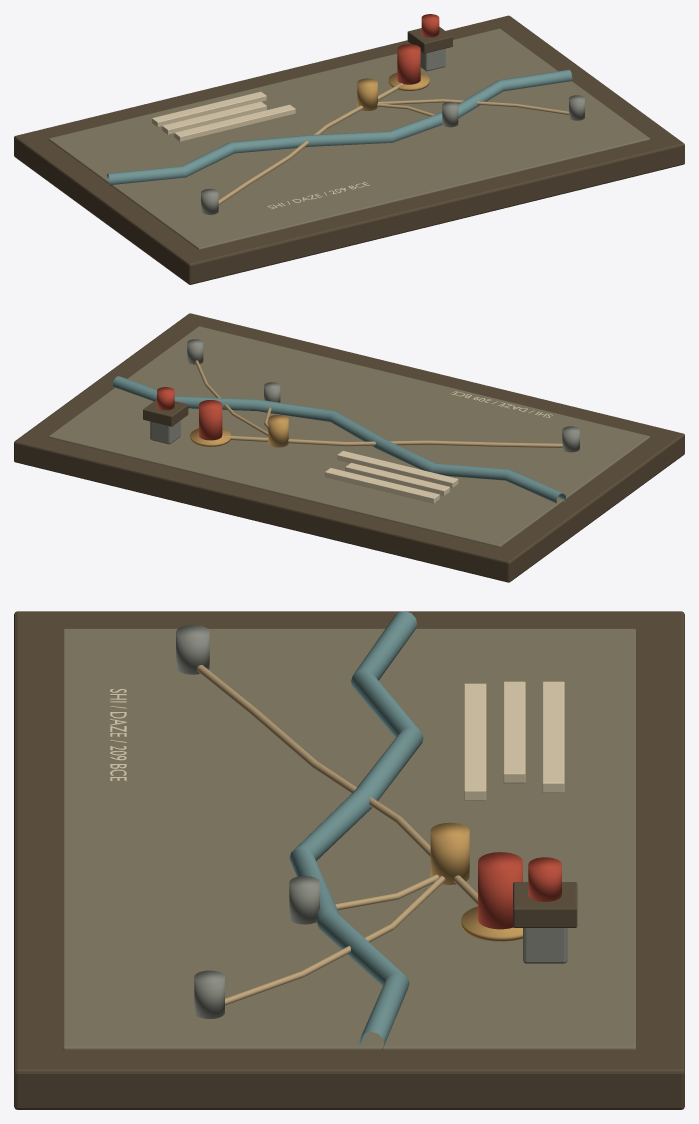
The model's file is shi-daze-wartable-v1.fbx.
The picture shows the model from 3 angles, top to bottom: view 1: azimuth 30°, elevation 25°; view 2: azimuth 150°, elevation 25°; view 3: azimuth 270°, elevation 25°; orthographic projection. The views are drawn at different scales.
Visible parts, largest first — view 1: raised earth map, dark wood campaign table, Huai river, bamboo tally three, bamboo tally one, bamboo tally two, Daze marker, Xianyang to Chen road, beacon tower crown, Chen to Kuaiji road, Chen marker, beacon tower base (+2 smaller); view 2: raised earth map, dark wood campaign table, Huai river, Xianyang to Chen road, bamboo tally three, bamboo tally one, bamboo tally two, Daze marker, beacon tower crown, Chen marker, beacon tower base, Xianyang marker; view 3: raised earth map, dark wood campaign table, Huai river, Daze marker, Xianyang to Chen road, bamboo tally three, bamboo tally one, beacon tower crown, bamboo tally two, Chen marker, Chen to Kuaiji road, beacon tower base (+7 smaller).
Boxes of the visible parts, x1,y1,x2,y2 form: raised earth map: [48, 28, 650, 249]; dark wood campaign table: [14, 15, 684, 284]; Huai river: [107, 69, 572, 185]; bamboo tally three: [174, 104, 295, 141]; bamboo tally one: [152, 91, 266, 127]; bamboo tally two: [162, 101, 266, 134]; Daze marker: [397, 44, 420, 84]; Xianyang to Chen road: [218, 83, 402, 204]; beacon tower crown: [407, 27, 452, 53]; Chen to Kuaiji road: [378, 99, 568, 114]; Chen marker: [357, 78, 377, 110]; beacon tower base: [420, 48, 445, 71]; raised earth map: [49, 326, 650, 547]; dark wood campaign table: [14, 313, 684, 582]; Huai river: [113, 376, 565, 503]; Xianyang to Chen road: [222, 435, 562, 447]; bamboo tally three: [337, 451, 458, 487]; bamboo tally one: [325, 468, 439, 503]; bamboo tally two: [345, 463, 449, 495]; Daze marker: [199, 400, 222, 440]; beacon tower crown: [143, 399, 188, 426]; Chen marker: [268, 415, 288, 447]; beacon tower base: [150, 420, 180, 444]; Xianyang marker: [562, 426, 579, 452]; raised earth map: [63, 628, 635, 1049]; dark wood campaign table: [14, 611, 684, 1109]; Huai river: [289, 611, 423, 1050]; Daze marker: [478, 852, 522, 929]; Xianyang to Chen road: [196, 665, 477, 904]; bamboo tally three: [464, 683, 486, 800]; bamboo tally one: [542, 681, 564, 792]; beacon tower crown: [513, 882, 577, 927]; bamboo tally two: [503, 681, 525, 783]; Chen marker: [430, 822, 469, 884]; Chen to Kuaiji road: [225, 876, 445, 1005]; beacon tower base: [523, 928, 567, 963].
Bounding box in the file's own units: 39000 × 5500 × 24000.
